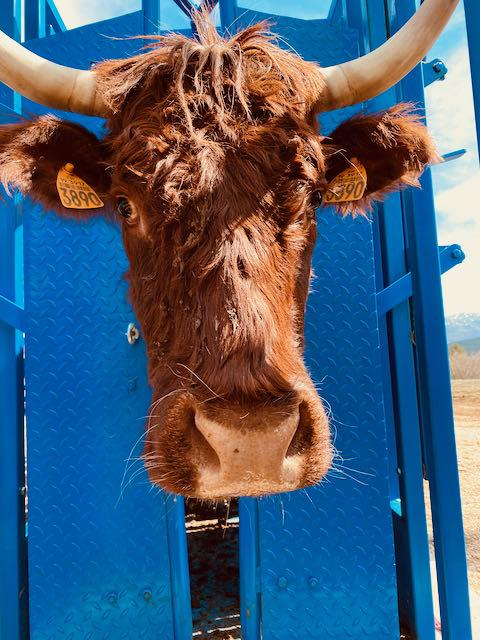muzzles: (134, 384, 341, 506)
